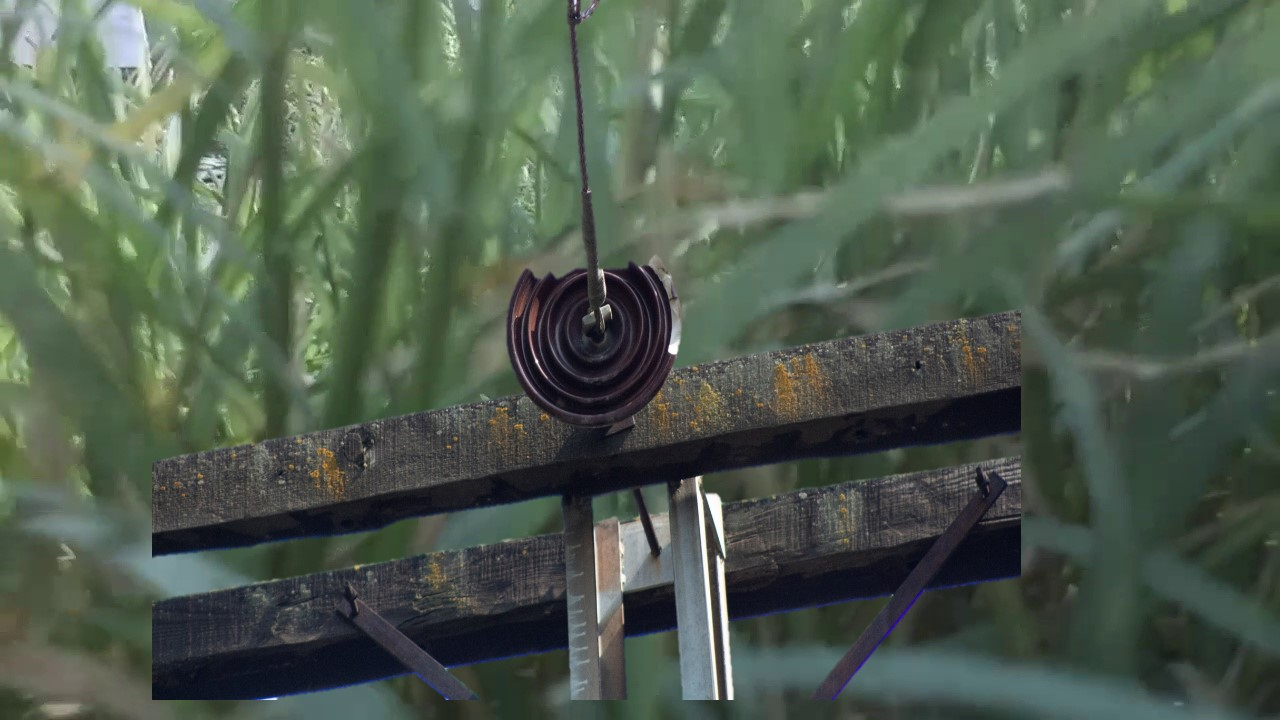defect_disc: (494, 253, 689, 434)
